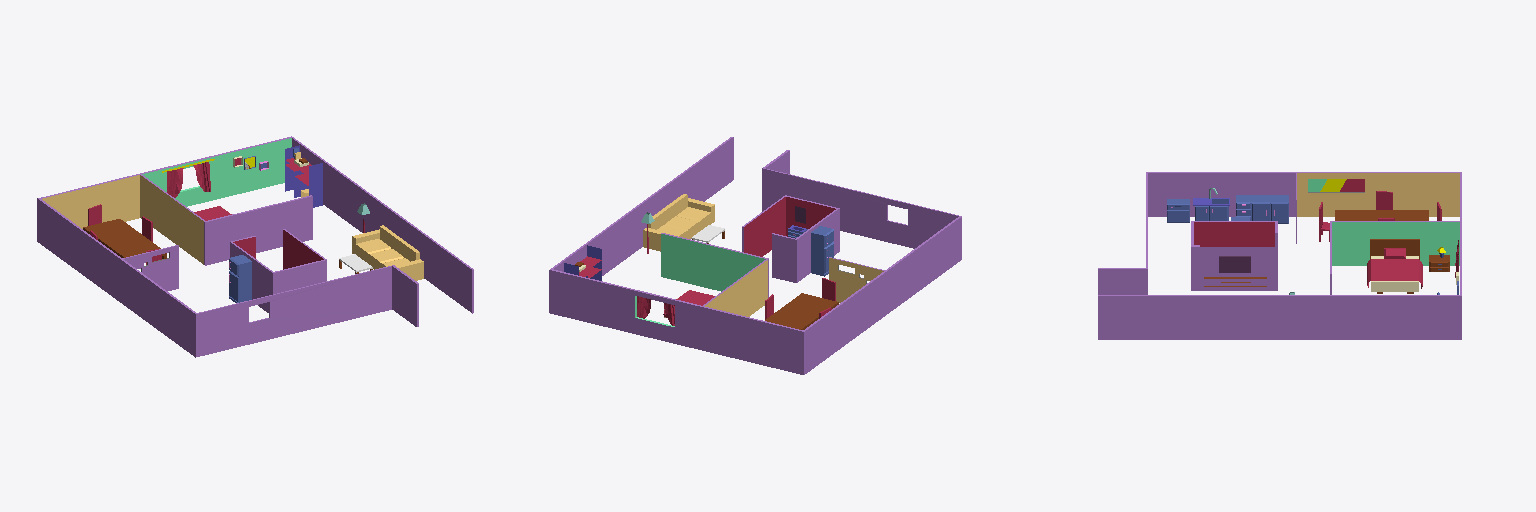
Rendered from house2.obj.
3 renders of one model, left to right at view 1: azimuth 30°, elevation 25°; view 2: azimuth 150°, elevation 25°; view 3: azimuth 270°, elevation 25°, orthographic.
Visible parts, largest first — view 1: polySurface253; view 2: polySurface253; view 3: polySurface253.
Boxes of the visible parts, x1,y1,x2,y2 form: polySurface253: [37, 136, 473, 357]; polySurface253: [549, 137, 961, 374]; polySurface253: [1098, 172, 1461, 339].
Bounding box in the file's own units: 153 × 25.01 × 189.